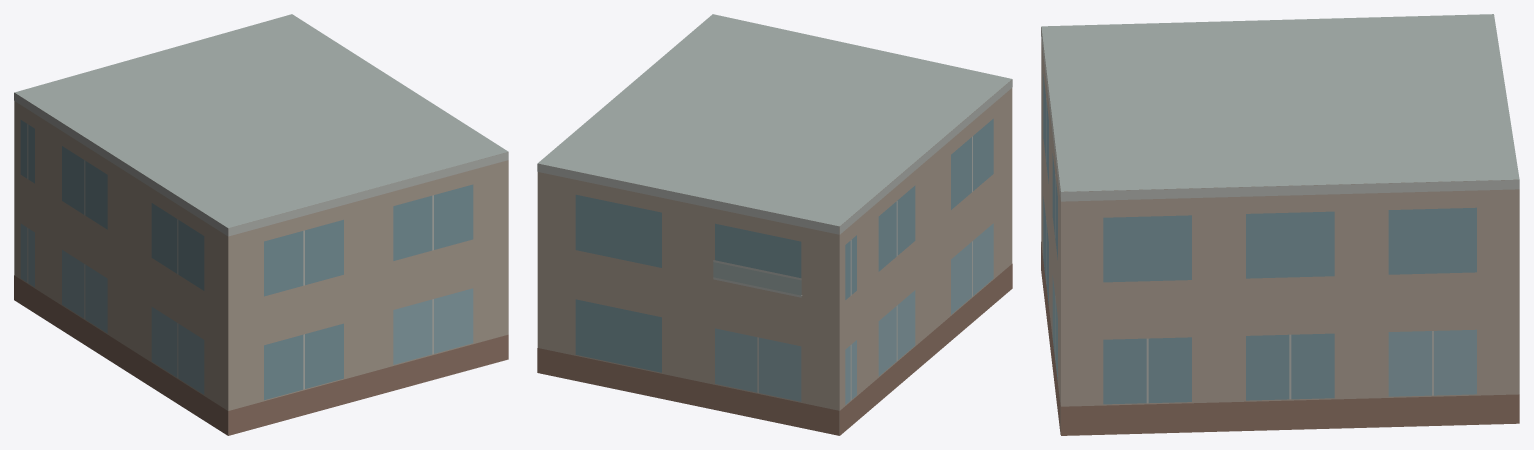
The model's file is survey-upis-32737747.glb.
3 renders of one model, left to right at view 1: azimuth 30°, elevation 25°; view 2: azimuth 150°, elevation 25°; view 3: azimuth 270°, elevation 25°, orthographic. The views are drawn at different scales.
Parts seen in each view (by area): view 1: survey-upis-32737747.tmp; view 2: survey-upis-32737747.tmp; view 3: survey-upis-32737747.tmp.
Part boxes in pixels (x1,y1,x2,y2): survey-upis-32737747.tmp: [14, 14, 508, 435]; survey-upis-32737747.tmp: [537, 14, 1012, 435]; survey-upis-32737747.tmp: [1041, 14, 1519, 435].
Bounding box in the file's own units: 9.55 × 6.1 × 10.85.
